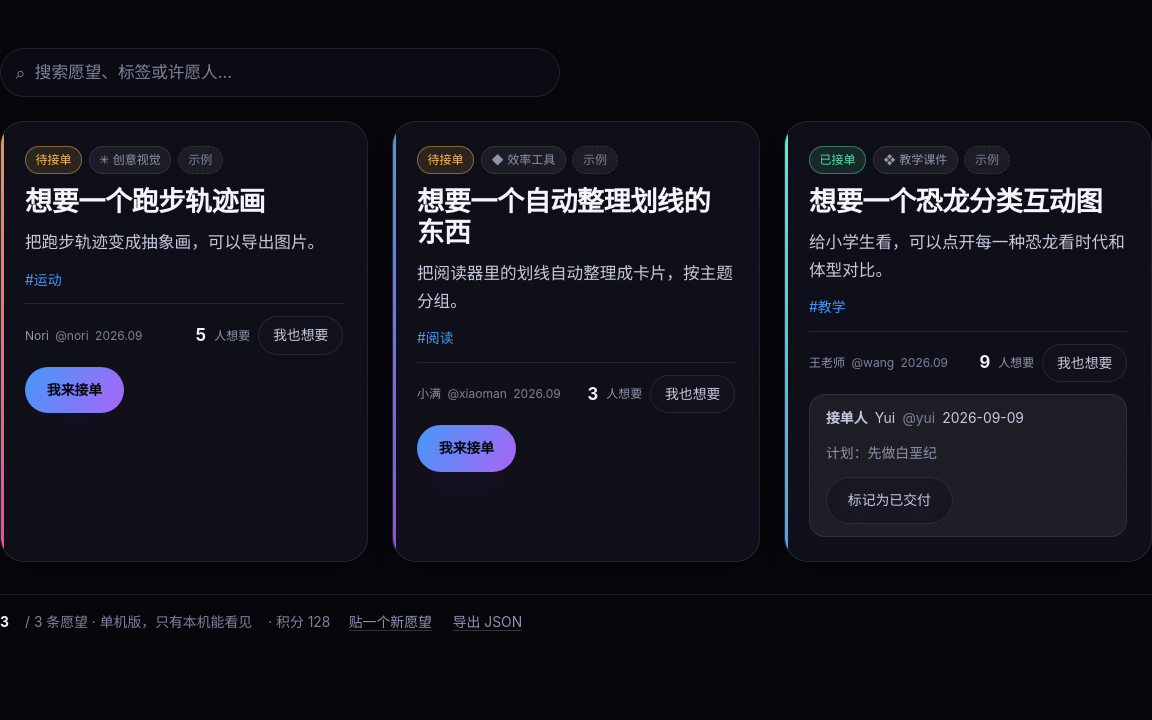
Test: WishesPage › 交付：已接单的愿望可以关联一件展品
The width and height of the screenshot is (1152, 720).
Step 1. Click the button "标记为已交付" → (889, 500), box [826,477,953,524]
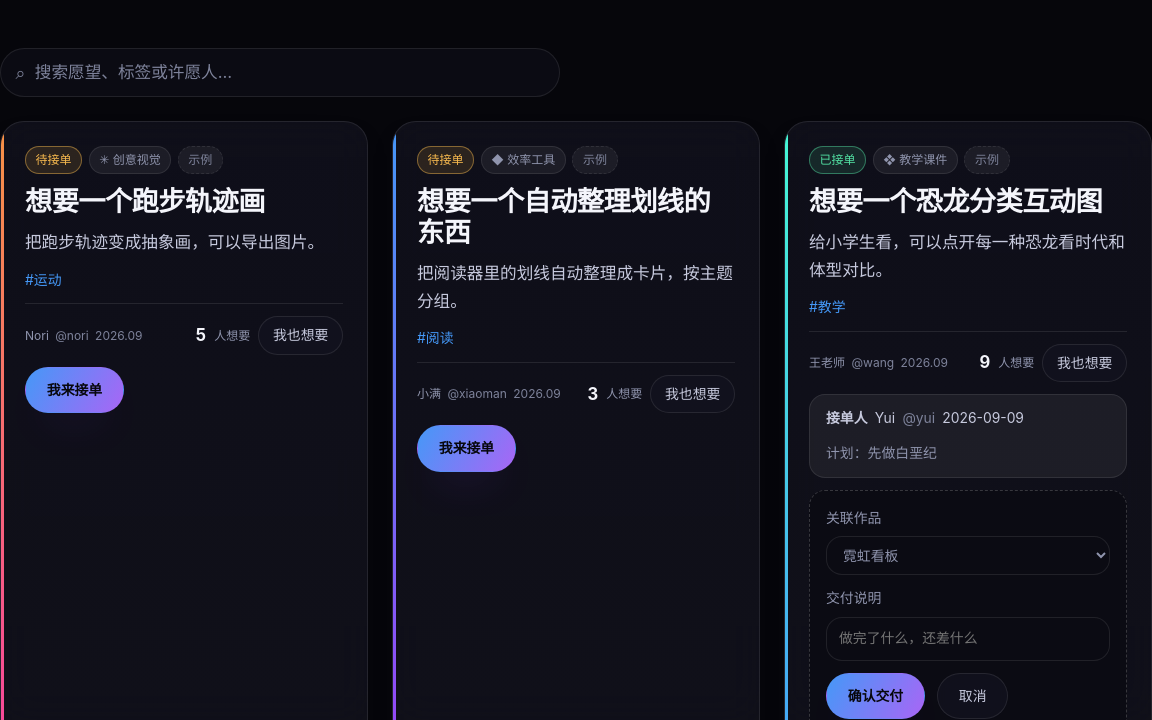
Step 2. Select "霓虹看板" in the dropdown labelled "关联作品" → (968, 556), box [826,536,1110,575]
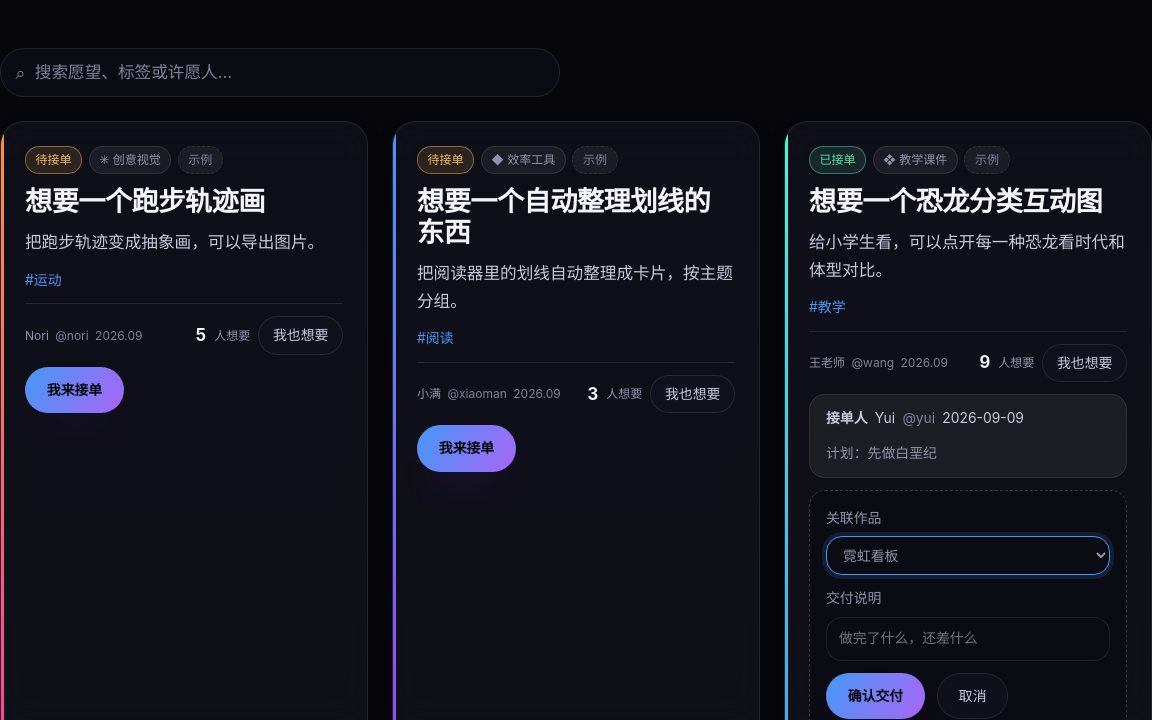
Step 3. Click the button "确认交付" → (876, 696), box [826,673,925,719]
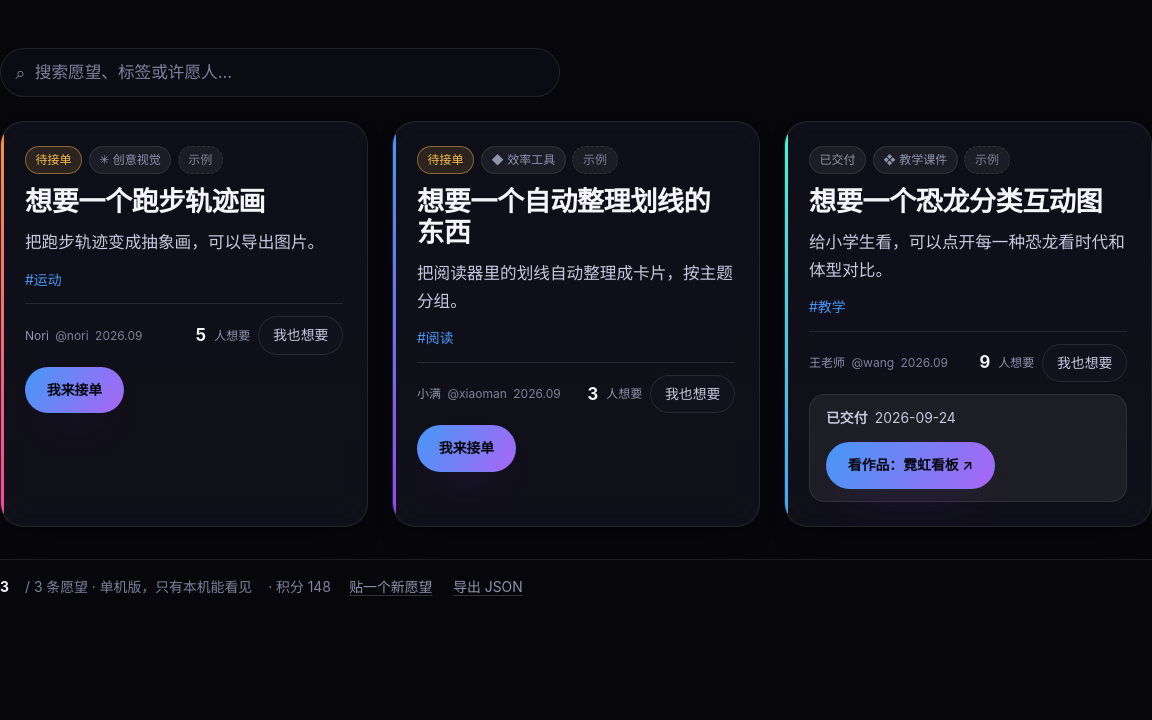
Expected: the list item with test id "wish-card-seed-two" shows "已交付", [820,152,856,167]
Expected: the link "看作品：霓虹看板 ↗" is shown, [826,442,995,489]
